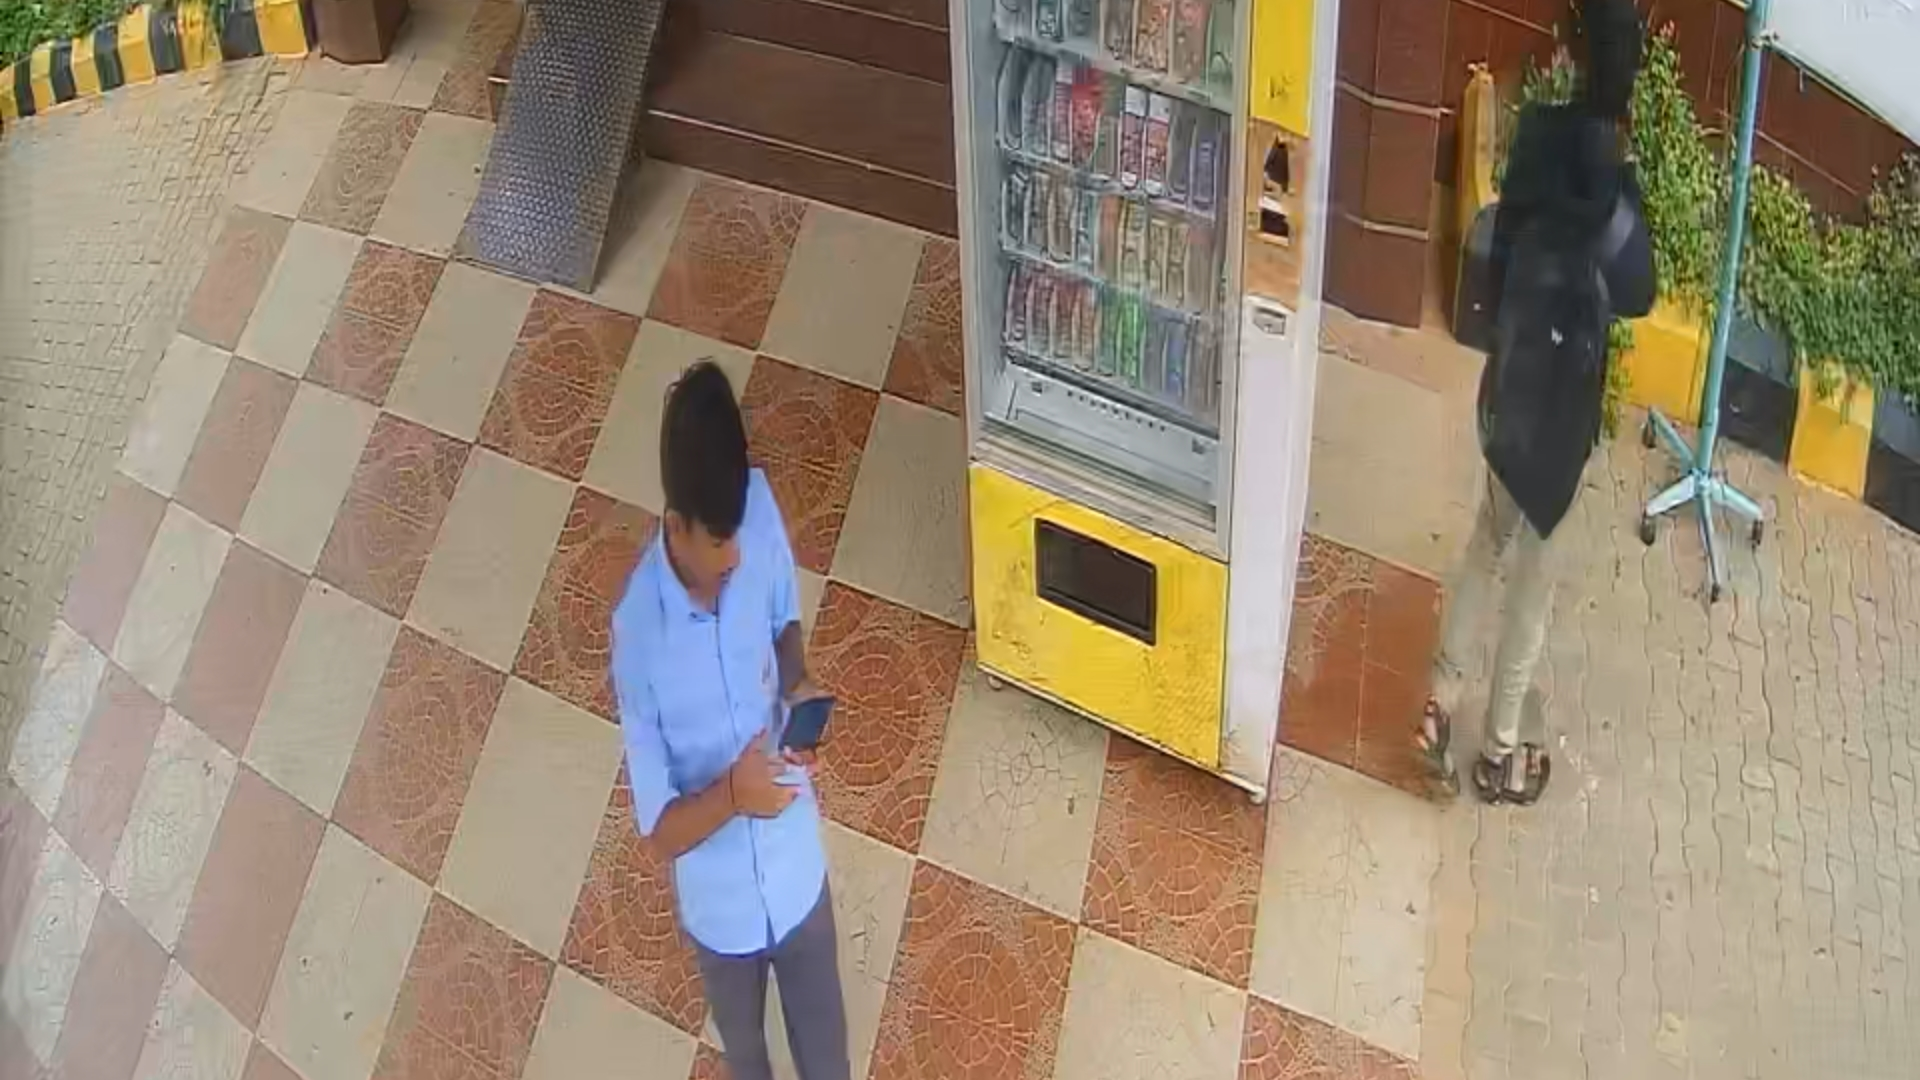intruder: (599, 334, 881, 1080)
